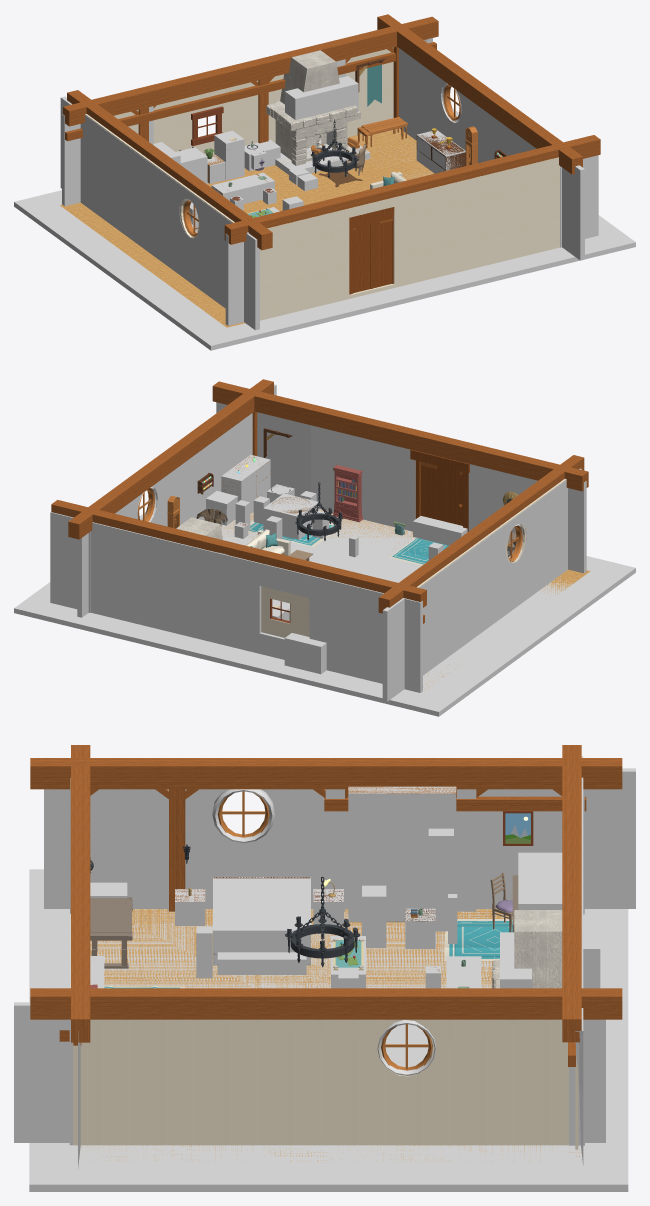
File: house.glb
The picture shows the model from 3 angles, top to bottom: view 1: azimuth 30°, elevation 25°; view 2: azimuth 150°, elevation 25°; view 3: azimuth 270°, elevation 25°; orthographic projection. The views are drawn at different scales.
Visible parts, largest first — view 1: HOUSE_WALL_FRONT, COL_BOX_HOUSE_FLOOR, COL_BOX_HOUSE_WALL_LEFT, HOUSE_FLOOR, COL_BOX_HOUSE_WALL_RIGHT, Flat_Beams_Back, HOUSE_WALL_BACK, Flat_Beams_Front, Flat_Beams_Right, Flat_Beams_Left, INTERACT_EXIT_DOOR_01, COL_BOX_HOUSE_WALL_FRONT (+21 smaller); view 2: COL_BOX_HOUSE_WALL_BACK, COL_BOX_HOUSE_FLOOR, COL_BOX_HOUSE_WALL_LEFT, COL_BOX_HOUSE_WALL_FRONT, Flat_Beams_Front, COL_BOX_HOUSE_WALL_RIGHT, Flat_Beams_Back, Flat_Beams_Right, Flat_Beams_Left, INTERACT_EXIT_DOOR_01, COL_BOX_ALCHEMY_Drawer_4, HOUSE_WALL_BACK (+10 smaller); view 3: HOUSE_WALL_RIGHT, COL_BOX_HOUSE_FLOOR, COL_BOX_HOUSE_WALL_LEFT, Flat_Beams_Right, Flat_Beams_Left, HOUSE_FLOOR, COL_BOX_LIBRARY_Shelf_Large, COL_BOX_HOUSE_WALL_RIGHT, COL_BOX_REST_Bed_King, Flat_Beams_Back, Flat_Beams_Front, Cube.008 (+28 smaller).
Boxes of the visible parts, bbox=[...] form: HOUSE_WALL_FRONT: bbox=[260, 157, 559, 320]; COL_BOX_HOUSE_FLOOR: bbox=[14, 108, 635, 350]; COL_BOX_HOUSE_WALL_LEFT: bbox=[60, 96, 259, 330]; HOUSE_FLOOR: bbox=[60, 128, 434, 327]; COL_BOX_HOUSE_WALL_RIGHT: bbox=[399, 48, 584, 260]; Flat_Beams_Back: bbox=[63, 16, 438, 126]; HOUSE_WALL_BACK: bbox=[114, 47, 393, 155]; Flat_Beams_Front: bbox=[224, 135, 600, 244]; Flat_Beams_Right: bbox=[377, 14, 582, 174]; Flat_Beams_Left: bbox=[67, 90, 272, 250]; INTERACT_EXIT_DOOR_01: bbox=[349, 207, 394, 294]; COL_BOX_HOUSE_WALL_FRONT: bbox=[225, 155, 598, 325]; COL_BOX_HOUSE_WALL_BACK: bbox=[50, 512, 422, 692]; COL_BOX_HOUSE_FLOOR: bbox=[14, 509, 635, 716]; COL_BOX_HOUSE_WALL_LEFT: bbox=[382, 468, 581, 701]; COL_BOX_HOUSE_WALL_FRONT: bbox=[216, 402, 586, 573]; Flat_Beams_Front: bbox=[212, 381, 588, 491]; COL_BOX_HOUSE_WALL_RIGHT: bbox=[77, 384, 276, 617]; Flat_Beams_Back: bbox=[51, 500, 426, 607]; Flat_Beams_Right: bbox=[68, 379, 273, 539]; Flat_Beams_Left: bbox=[378, 455, 584, 613]; INTERACT_EXIT_DOOR_01: bbox=[410, 450, 469, 531]; COL_BOX_ALCHEMY_Drawer_4: bbox=[221, 455, 270, 513]; HOUSE_WALL_BACK: bbox=[261, 586, 309, 637]; HOUSE_WALL_RIGHT: bbox=[73, 1019, 568, 1145]; COL_BOX_HOUSE_FLOOR: bbox=[29, 869, 628, 1191]; COL_BOX_HOUSE_WALL_LEFT: bbox=[44, 768, 635, 908]; Flat_Beams_Right: bbox=[30, 988, 622, 1019]; Flat_Beams_Left: bbox=[30, 758, 622, 789]; HOUSE_FLOOR: bbox=[81, 909, 579, 1162]; COL_BOX_LIBRARY_Shelf_Large: bbox=[348, 786, 456, 922]; COL_BOX_HOUSE_WALL_RIGHT: bbox=[14, 1002, 605, 1142]; COL_BOX_REST_Bed_King: bbox=[213, 877, 310, 965]; Flat_Beams_Back: bbox=[562, 745, 581, 1042]; Flat_Beams_Front: bbox=[71, 745, 90, 1042]; Cube.008: bbox=[514, 910, 562, 988].
Bounding box in the file's own units: 23.32 × 5.62 × 19.43.
74 materials, 14 textured.
